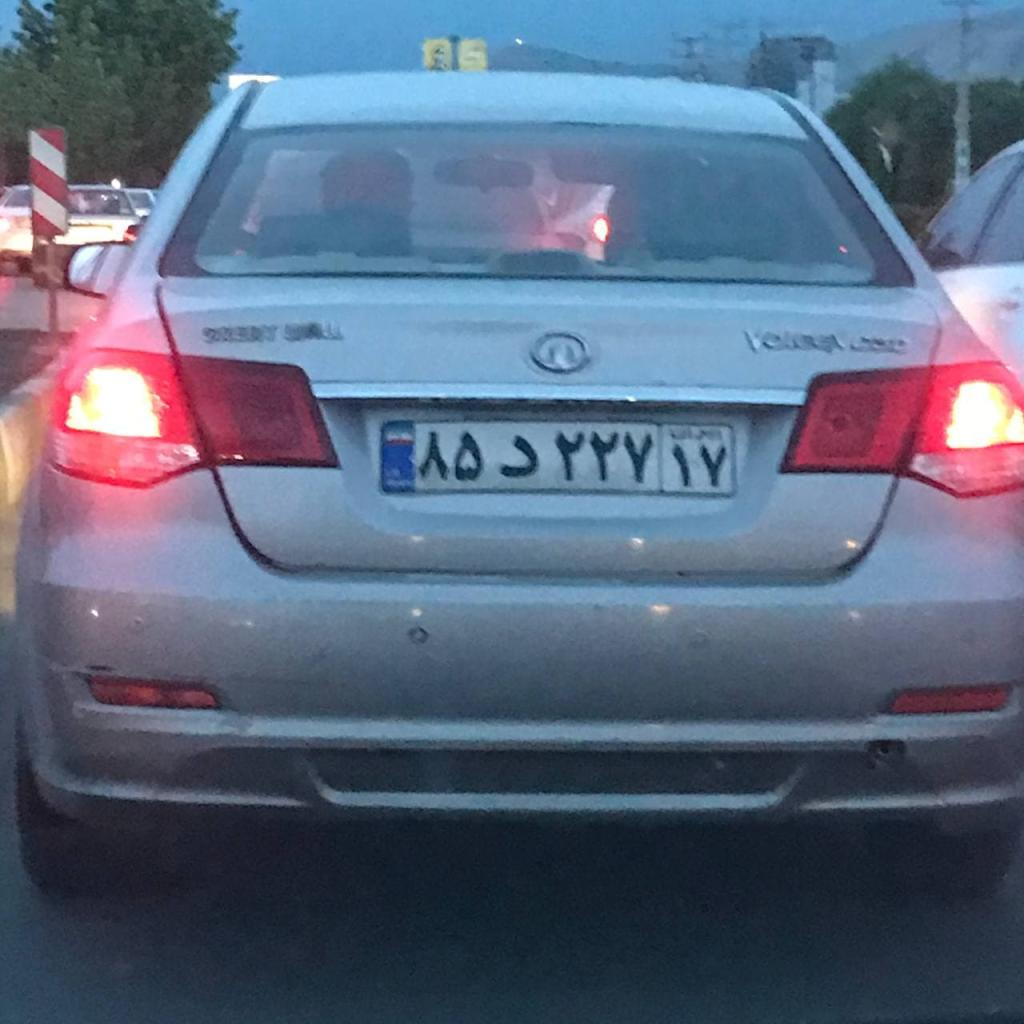Plates: (381, 421, 733, 494)
